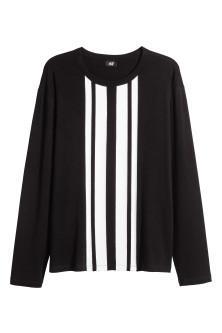teeshirt: (2, 46, 222, 295)
